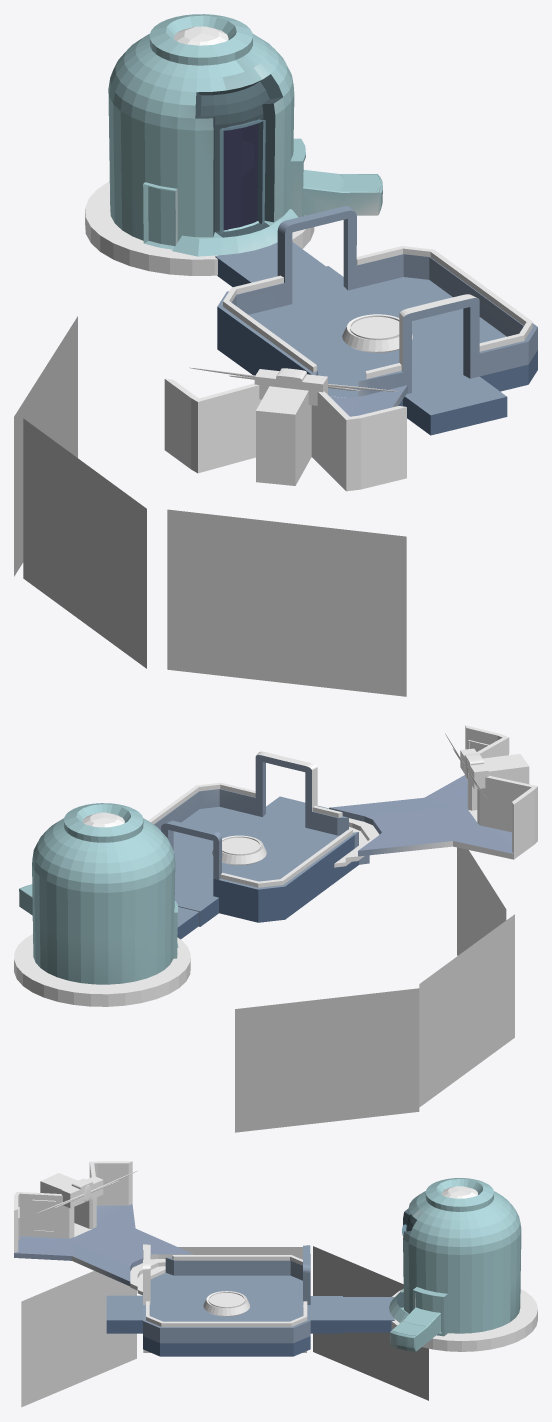
Rendered from Temp map1.fbx.
The picture shows the model from 3 angles, top to bottom: view 1: azimuth 30°, elevation 25°; view 2: azimuth 150°, elevation 25°; view 3: azimuth 270°, elevation 25°; orthographic projection. The views are drawn at different scales.
Parts seen in each view (by area): view 1: Cube, Sphere.005, Plane, Plane.002, Plane.001, Cylinder.002, Cube.001, Cylinder, Cube.002, Sphere.006; view 2: Cube, Sphere.005, Plane.001, Plane.002, Cylinder.002, Plane, Cube.001, Cylinder, Cube.002, Cube.003, Sphere.006; view 3: Cube, Sphere.005, Plane, Plane.001, Cylinder.002, Cube.001, Plane.002, Cylinder, Cube.002, Cube.003, Sphere.006.
Boxes of the visible parts, box(x1,y1,x2,y2) form: Cube: box(164, 206, 537, 491); Sphere.005: box(108, 14, 382, 256); Plane: box(167, 509, 406, 696); Plane.002: box(23, 418, 146, 668); Plane.001: box(14, 316, 77, 576); Cylinder.002: box(85, 181, 314, 275); Cube.001: box(223, 246, 532, 378); Cylinder: box(342, 314, 412, 352); Cube.002: box(254, 368, 327, 405); Sphere.006: box(174, 26, 228, 45); Cube: box(154, 725, 537, 939); Sphere.005: box(19, 803, 178, 984); Plane.001: box(235, 988, 419, 1132); Plane.002: box(419, 914, 514, 1107); Cylinder.002: box(14, 934, 190, 1006); Plane: box(457, 847, 506, 955); Cube.001: box(148, 782, 352, 887); Cylinder: box(212, 835, 266, 865); Cube.002: box(460, 748, 488, 789); Cube.003: box(334, 818, 379, 867); Sphere.006: box(82, 812, 124, 827); Cube: box(14, 1161, 394, 1356); Sphere.005: box(389, 1178, 521, 1351); Plane: box(21, 1270, 136, 1407); Plane.001: box(313, 1246, 428, 1400); Cylinder.002: box(391, 1289, 537, 1351); Cube.001: box(146, 1255, 307, 1326); Plane.002: box(143, 1247, 306, 1352); Cylinder: box(203, 1291, 249, 1316); Cube.002: box(61, 1176, 103, 1208); Cube.003: box(130, 1259, 165, 1295); Sphere.006: box(442, 1186, 477, 1198).
Size of the model in its own units: 3616 by 3066 by 5613.
